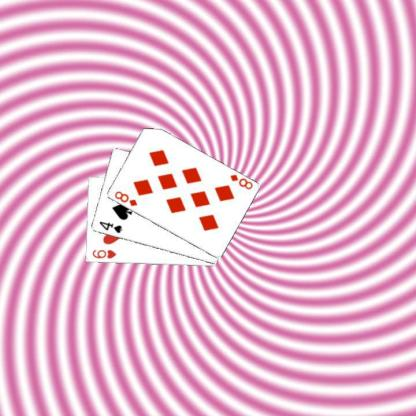4S: (97, 219, 123, 235)
6H: (90, 247, 117, 260)
8D: (112, 188, 138, 207), (227, 172, 254, 190)
